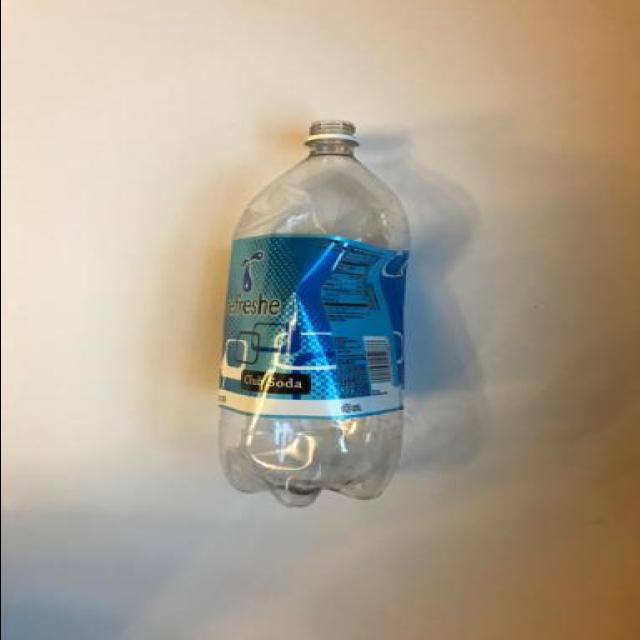litter: (216, 118, 412, 508)
